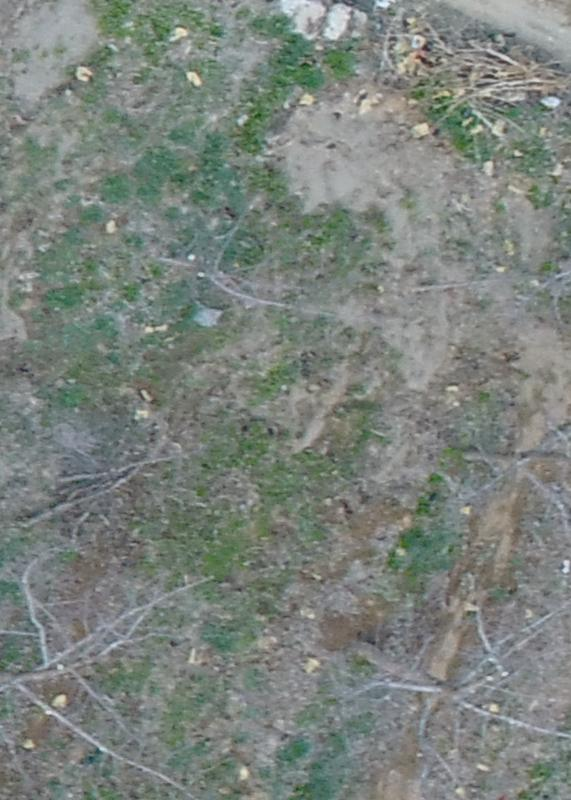apple: (10, 537, 257, 790)
